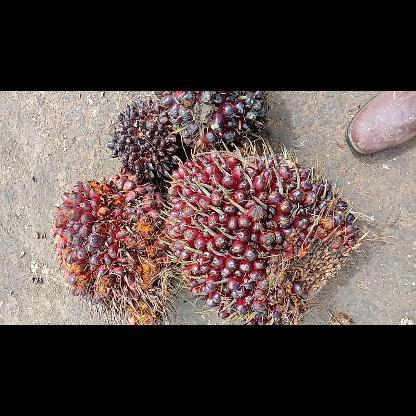Kurang masak: (160, 148, 364, 324), (150, 91, 272, 153)
TBS abnormal: (104, 97, 192, 183)
TBS masak: (48, 174, 180, 324)
